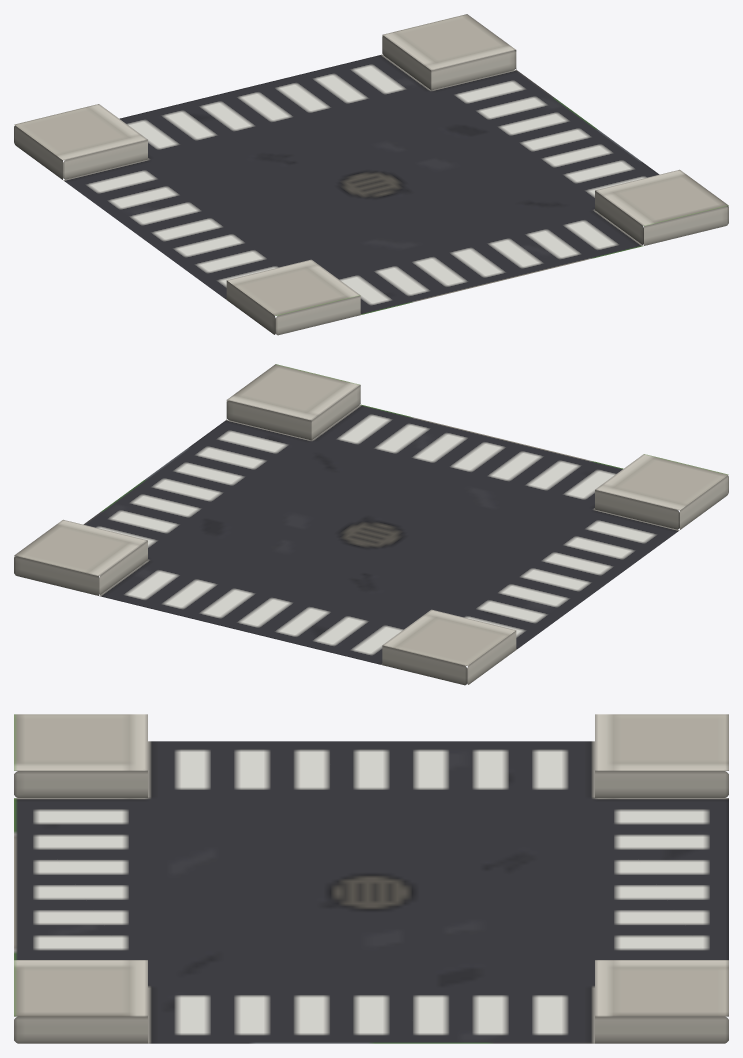
Rendered from Calle_Cruce.fbx.
The picture shows the model from 3 angles, top to bottom: view 1: azimuth 30°, elevation 25°; view 2: azimuth 150°, elevation 25°; view 3: azimuth 270°, elevation 25°; orthographic projection. The views are drawn at different scales.
Parts seen in each view (by area): view 1: Calle_Cruce; view 2: Calle_Cruce; view 3: Calle_Cruce.
Boxes of the visible parts, bbox=[...] form: Calle_Cruce: bbox=[14, 14, 728, 335]; Calle_Cruce: bbox=[14, 364, 728, 685]; Calle_Cruce: bbox=[14, 714, 728, 1043].
Bounding box in the file's own units: 3 × 0.125 × 3.
1 material, 1 textured.
